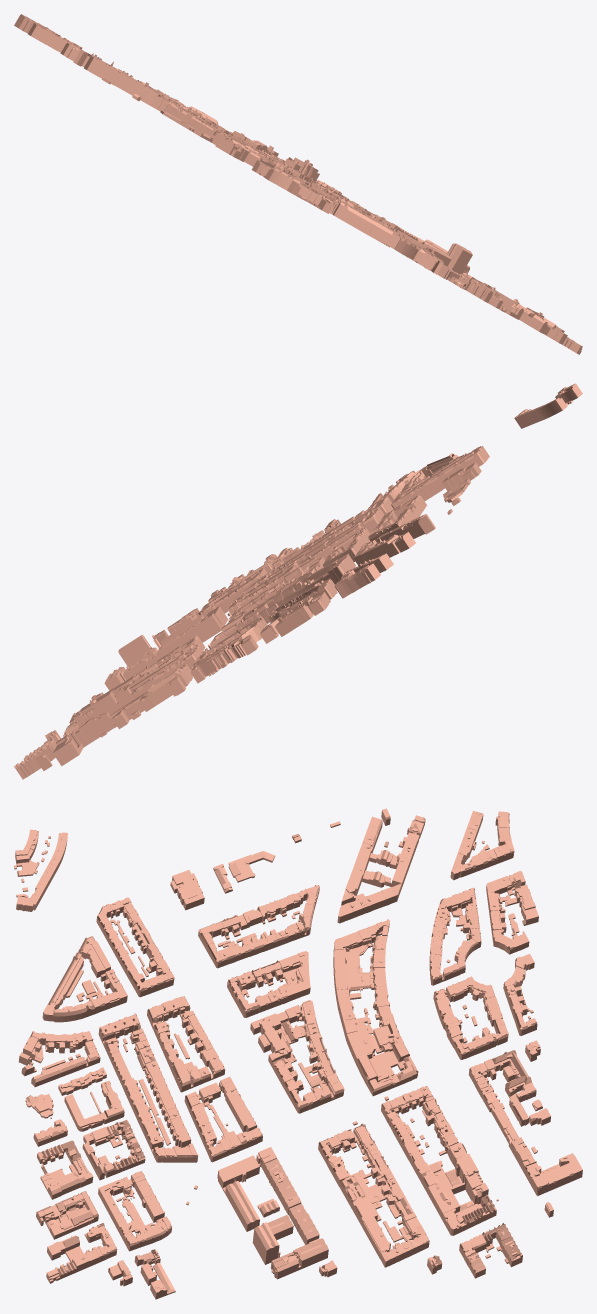
3 renders of one model, top to bottom at view 1: azimuth 30°, elevation 25°; view 2: azimuth 150°, elevation 25°; view 3: azimuth 270°, elevation 25°, orthographic. The views are drawn at different scales.
Size of the model in its own units: 1.76e+07 by 1.31e+07 by 2.2e+07.
